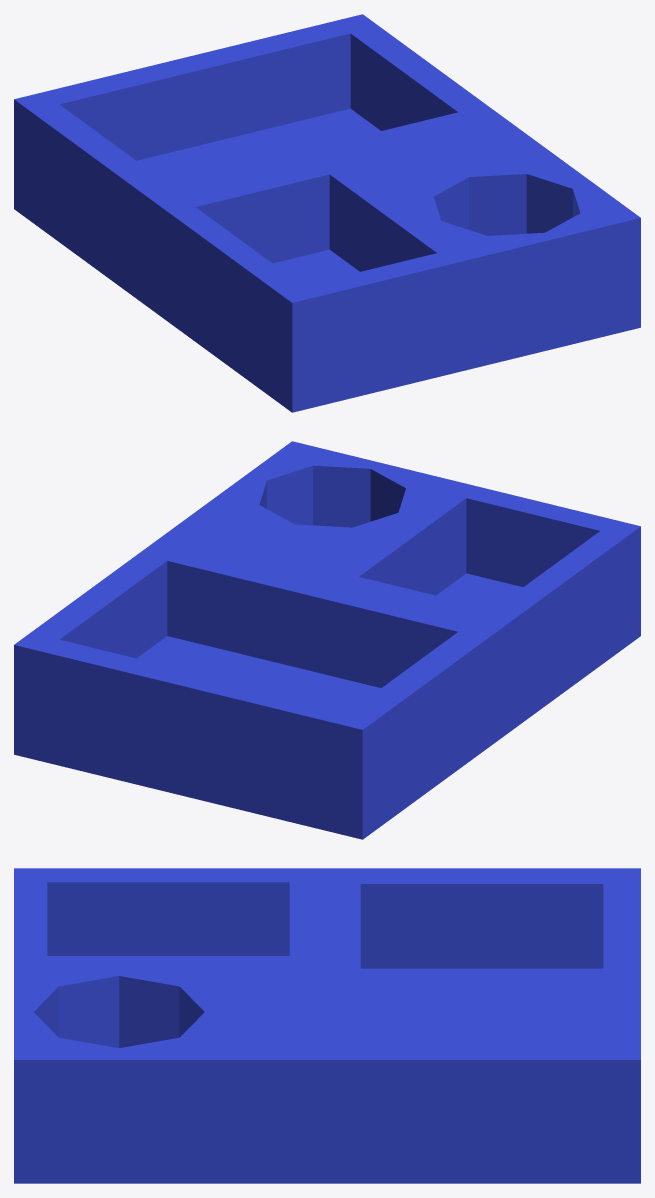
File: bandeja.fbx
3 views of the same model, one above another, from view 1: azimuth 30°, elevation 25°; view 2: azimuth 150°, elevation 25°; view 3: azimuth 270°, elevation 25° (orthographic). The views are drawn at different scales.
Visible parts, largest first — view 1: bandeja; view 2: bandeja; view 3: bandeja.
Boxes of the visible parts, left/top/right/bottom form: bandeja: left=14, top=14, right=640, bottom=412; bandeja: left=14, top=441, right=640, bottom=839; bandeja: left=14, top=868, right=640, bottom=1183.
Bounding box in the file's own units: 30.72 × 9.24 × 42.45.
